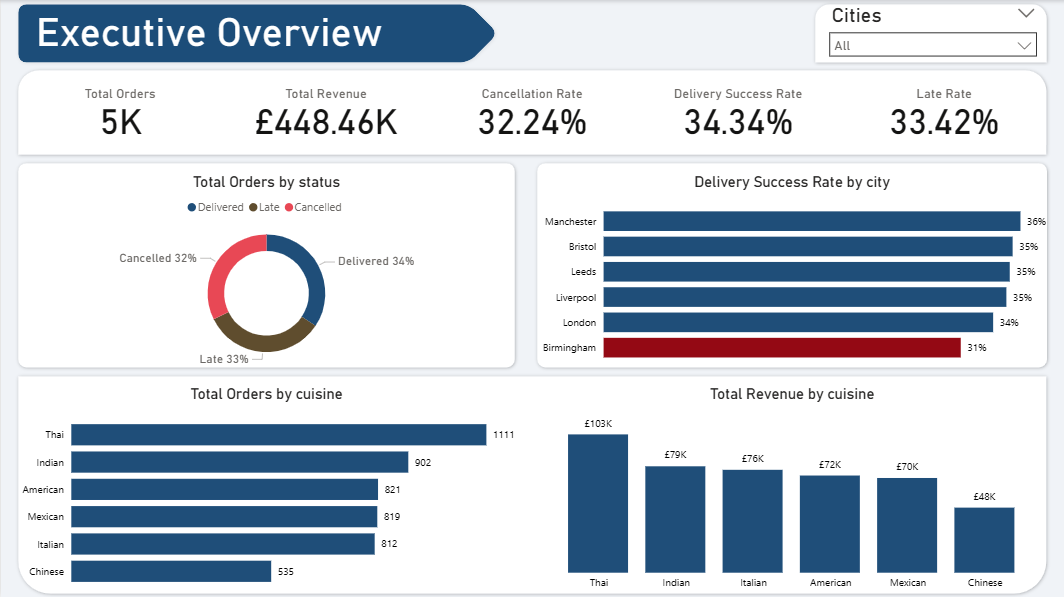

Layout of this report page (visuals, bound fields, positions):
{"tool":"powerbi","page":{"name":"Page 1","canvas":[1280,720],"ordinal":0},"visuals":[{"type":"shape","box":[16,80,1248,112],"z":0},{"type":"shape","box":[16,192,608,256],"z":1000},{"type":"shape","box":[640,192,624,256],"z":2000},{"type":"shape","box":[16,448,1248,272],"z":3000},{"type":"cardVisual","fields":{"Data":["_Measures.Total Orders"]},"box":[16,80,256,112],"z":4000},{"type":"cardVisual","fields":{"Data":["_Measures.Total Revenue"]},"box":[272,80,240,112],"z":5000},{"type":"cardVisual","fields":{"Data":["_Measures.Cancellation Rate"]},"box":[512,80,256,112],"z":6000},{"type":"cardVisual","fields":{"Data":["_Measures.Delivery Success Rate"]},"box":[768,80,240,112],"z":7000},{"type":"cardVisual","fields":{"Data":["_Measures.Late Rate"]},"box":[1008,80,256,112],"z":8000},{"type":"donutChart","fields":{"Category":["orders_medium.status"],"Y":["_Measures.Total Orders"]},"box":[16,208,608,240],"z":9000},{"type":"shape","box":[15.4,0,587.9,80.3],"z":10000},{"type":"textbox","box":[37.5,5.4,511.2,69.6],"z":11000},{"type":"shape","box":[975.8,0,288.8,80.3],"z":13000},{"type":"slicer","fields":{"Values":["restaurants.city"]},"box":[987.8,0,270,80.3],"z":14000},{"type":"columnChart","fields":{"Category":["restaurants.cuisine"],"Y":["_Measures.Total Revenue"]},"box":[640,464,624,256],"z":15000},{"type":"barChart","fields":{"Y":["_Measures.Delivery Success Rate"],"Category":["customers_medium.city"]},"box":[640,208,624,240],"z":16000},{"type":"barChart","fields":{"Y":["_Measures.Total Orders"],"Category":["restaurants.cuisine"]},"box":[16,464,608,256],"z":17000}]}

Visuals, with their boxes in screenshot pixels (x1, y1, x2, y2), scaled from the page's 1280x720 canvas onto the 1064x597 screenshot:
shape: <bbox>13, 66, 1051, 159</bbox>
shape: <bbox>13, 159, 519, 371</bbox>
shape: <bbox>532, 159, 1051, 371</bbox>
shape: <bbox>13, 371, 1051, 596</bbox>
cardVisual - _Measures.Total Orders: <bbox>13, 66, 226, 159</bbox>
cardVisual - _Measures.Total Revenue: <bbox>226, 66, 426, 159</bbox>
cardVisual - _Measures.Cancellation Rate: <bbox>426, 66, 638, 159</bbox>
cardVisual - _Measures.Delivery Success Rate: <bbox>638, 66, 838, 159</bbox>
cardVisual - _Measures.Late Rate: <bbox>838, 66, 1051, 159</bbox>
donutChart - orders_medium.status x _Measures.Total Orders: <bbox>13, 172, 519, 371</bbox>
shape: <bbox>13, 0, 501, 67</bbox>
textbox: <bbox>31, 4, 456, 62</bbox>
shape: <bbox>811, 0, 1051, 67</bbox>
slicer - restaurants.city: <bbox>821, 0, 1046, 67</bbox>
columnChart - restaurants.cuisine x _Measures.Total Revenue: <bbox>532, 385, 1051, 596</bbox>
barChart - _Measures.Delivery Success Rate x customers_medium.city: <bbox>532, 172, 1051, 371</bbox>
barChart - _Measures.Total Orders x restaurants.cuisine: <bbox>13, 385, 519, 596</bbox>
